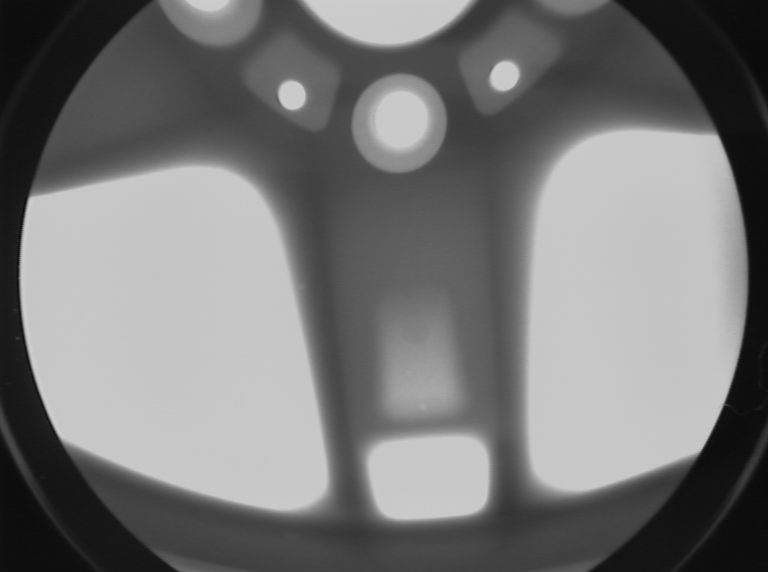defect: (295, 278, 312, 298)
